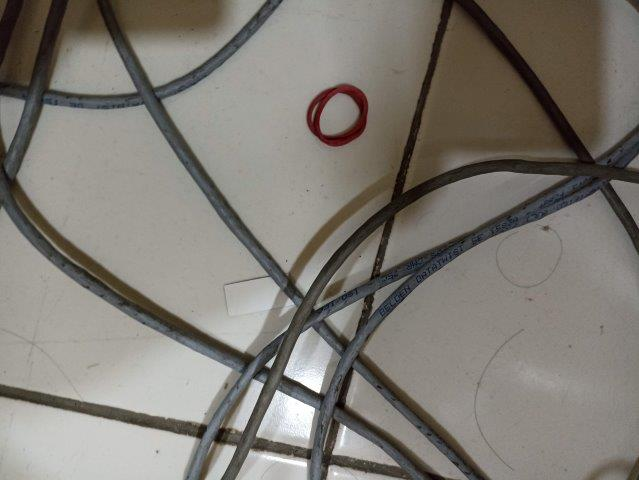karet: (307, 83, 369, 147)
